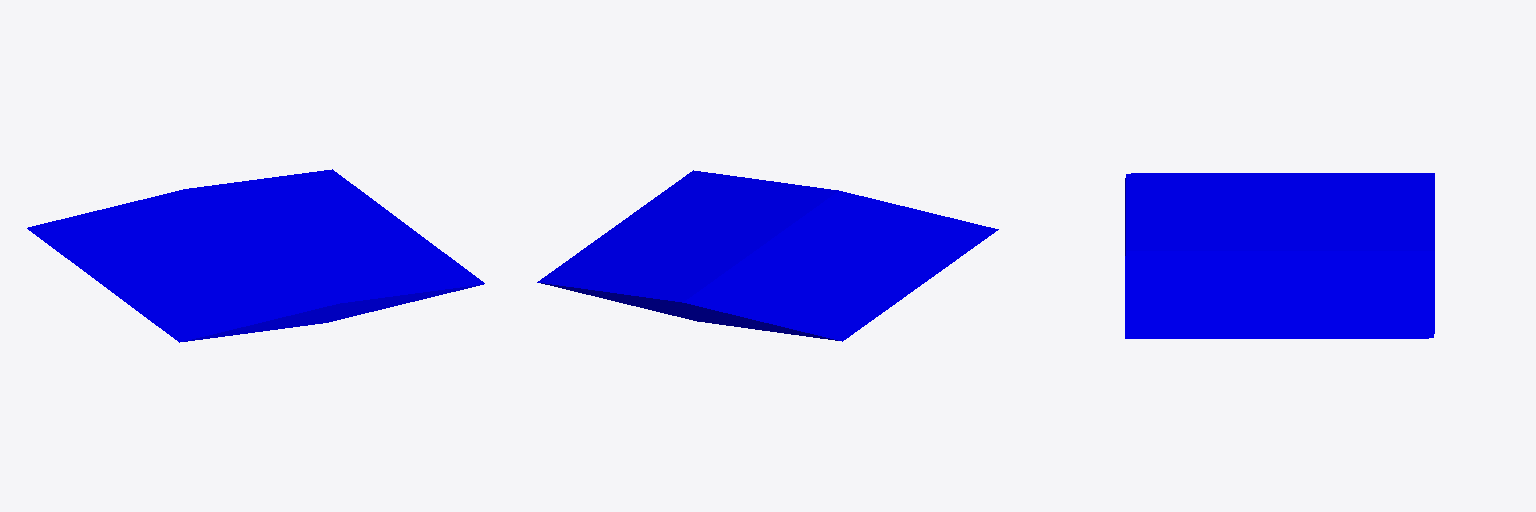
File: planes_1-dynamic - BLK2GO-3630355-Scan 080 33.obj
The picture shows the model from 3 angles: view 1: azimuth 30°, elevation 25°; view 2: azimuth 150°, elevation 25°; view 3: azimuth 270°, elevation 25°; orthographic projection.
Parts seen in each view (by area): view 1: 1-dynamic_-_BLK2GO-[number redacted]-Scan_080_33_0; view 2: 1-dynamic_-_BLK2GO-[number redacted]-Scan_080_33_0; view 3: 1-dynamic_-_BLK2GO-[number redacted]-Scan_080_33_0.
Boxes of the visible parts, <box> form: 1-dynamic_-_BLK2GO-[number redacted]-Scan_080_33_0: <box>27,169,484,342</box>; 1-dynamic_-_BLK2GO-[number redacted]-Scan_080_33_0: <box>537,170,998,341</box>; 1-dynamic_-_BLK2GO-[number redacted]-Scan_080_33_0: <box>1125,173,1434,338</box>.
Bounding box in the file's own units: 1.95 × 0.1017 × 1.7.